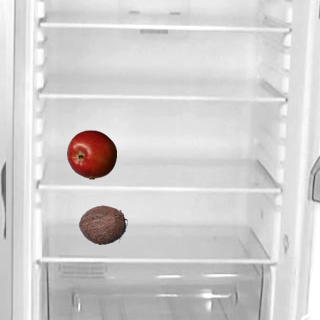Apple Braeburn: (66, 129, 116, 179)
Cocos: (77, 199, 127, 249)
